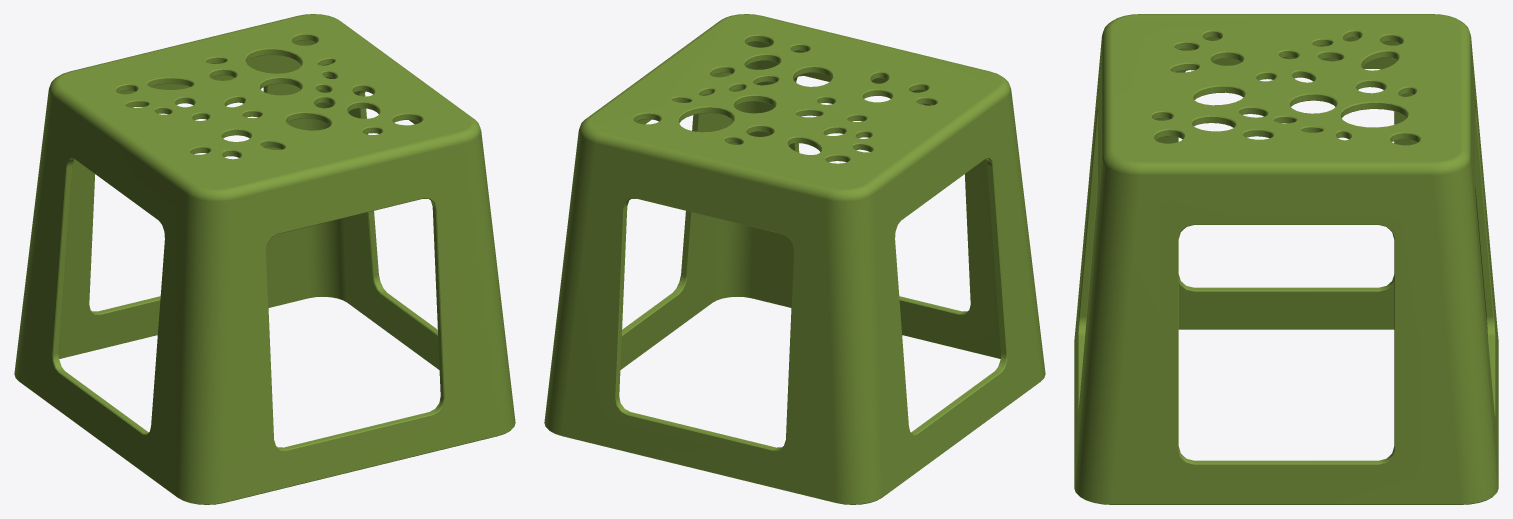
File: ghe_nhua_xanh_reu.glb
The picture shows the model from 3 angles, left to right: view 1: azimuth 30°, elevation 25°; view 2: azimuth 150°, elevation 25°; view 3: azimuth 270°, elevation 25°; orthographic projection. The views are drawn at different scales.
Visible parts, largest first — view 1: ghe_nhua_xanh_reu; view 2: ghe_nhua_xanh_reu; view 3: ghe_nhua_xanh_reu.
Boxes of the visible parts, box(x1,y1,x2,y2) form: ghe_nhua_xanh_reu: box(14, 14, 515, 504); ghe_nhua_xanh_reu: box(544, 14, 1045, 504); ghe_nhua_xanh_reu: box(1074, 14, 1498, 504).
Bounding box in the file's own units: 0.3349 × 0.2856 × 0.3349.
